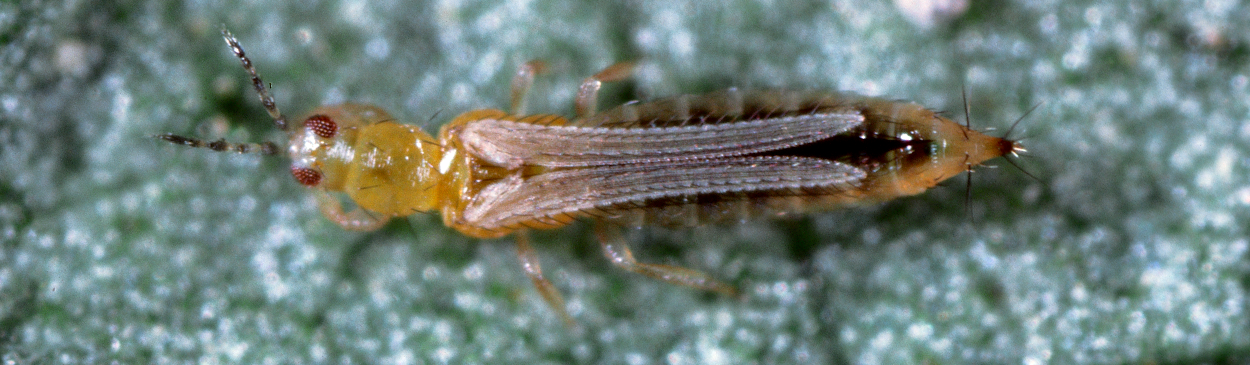Thrips: (149, 1, 1091, 307)
